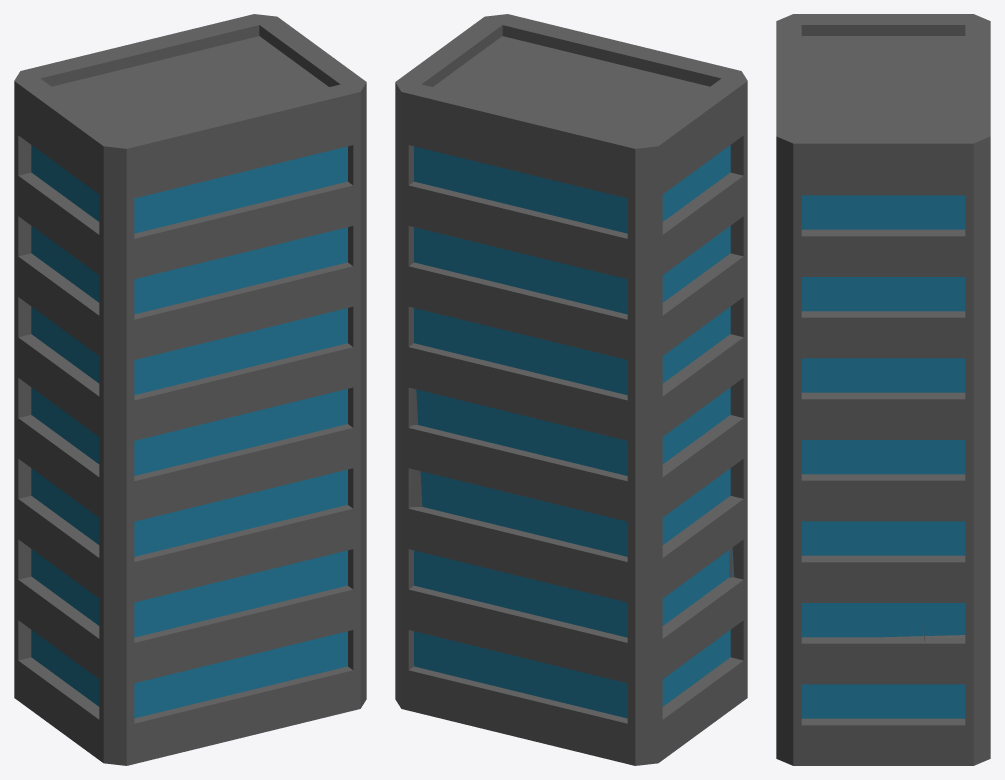
Rendered from D_biurowiec3.fbx.
3 views of the same model, side by side, from view 1: azimuth 30°, elevation 25°; view 2: azimuth 150°, elevation 25°; view 3: azimuth 270°, elevation 25° (orthographic).
Visible parts, largest first — view 1: biurowiec3.027, biurowiec3.008, biurowiec3.022, biurowiec3.003, biurowiec3.010, biurowiec3.016, biurowiec3.021, biurowiec3.019, biurowiec3.040, biurowiec3.043, biurowiec3.055, biurowiec3.023 (+16 smaller); view 2: biurowiec3.008, biurowiec3.012, biurowiec3.023, biurowiec3.039, biurowiec3.038, biurowiec3.006, biurowiec3.014, biurowiec3.040, biurowiec3.043, biurowiec3.015, biurowiec3.009, biurowiec3.058 (+11 smaller); view 3: biurowiec3.001, biurowiec3.018, biurowiec3.021, biurowiec3.022, biurowiec3.008, biurowiec3.010, biurowiec3.029, biurowiec3.043, biurowiec3.024, biurowiec3.002, biurowiec3.004, biurowiec3.005 (+4 smaller).
Boxes of the visible parts, x1,y1,x2,y2 form: biurowiec3.027: (114, 90, 346, 353); biurowiec3.008: (14, 14, 266, 299); biurowiec3.022: (143, 574, 366, 761); biurowiec3.003: (102, 471, 223, 693); biurowiec3.010: (250, 173, 366, 412); biurowiec3.016: (171, 498, 345, 670); biurowiec3.021: (233, 380, 366, 527); biurowiec3.019: (147, 230, 305, 419); biurowiec3.040: (32, 443, 108, 689); biurowiec3.043: (128, 15, 342, 140); biurowiec3.055: (109, 412, 236, 498); biurowiec3.023: (14, 413, 71, 613); biurowiec3.008: (398, 74, 747, 279); biurowiec3.012: (408, 171, 699, 366); biurowiec3.023: (519, 444, 702, 659); biurowiec3.039: (407, 551, 585, 753); biurowiec3.038: (399, 215, 499, 536); biurowiec3.006: (500, 335, 713, 509); biurowiec3.014: (436, 239, 599, 474); biurowiec3.040: (667, 404, 747, 652); biurowiec3.043: (395, 21, 723, 118); biurowiec3.015: (545, 607, 676, 765); biurowiec3.009: (600, 280, 720, 406); biurowiec3.058: (662, 625, 746, 758); biurowiec3.001: (852, 261, 990, 597); biurowiec3.018: (787, 130, 983, 260); biurowiec3.021: (776, 370, 911, 596); biurowiec3.022: (776, 636, 958, 765); biurowiec3.008: (792, 14, 990, 195); biurowiec3.010: (776, 232, 851, 451); biurowiec3.029: (813, 238, 958, 369); biurowiec3.043: (788, 26, 982, 172); biurowiec3.024: (776, 602, 929, 663); biurowiec3.002: (925, 632, 990, 765); biurowiec3.004: (913, 586, 990, 660); biurowiec3.005: (776, 576, 913, 623).
Size of the model in its own units: 500 by 1120 by 350.
